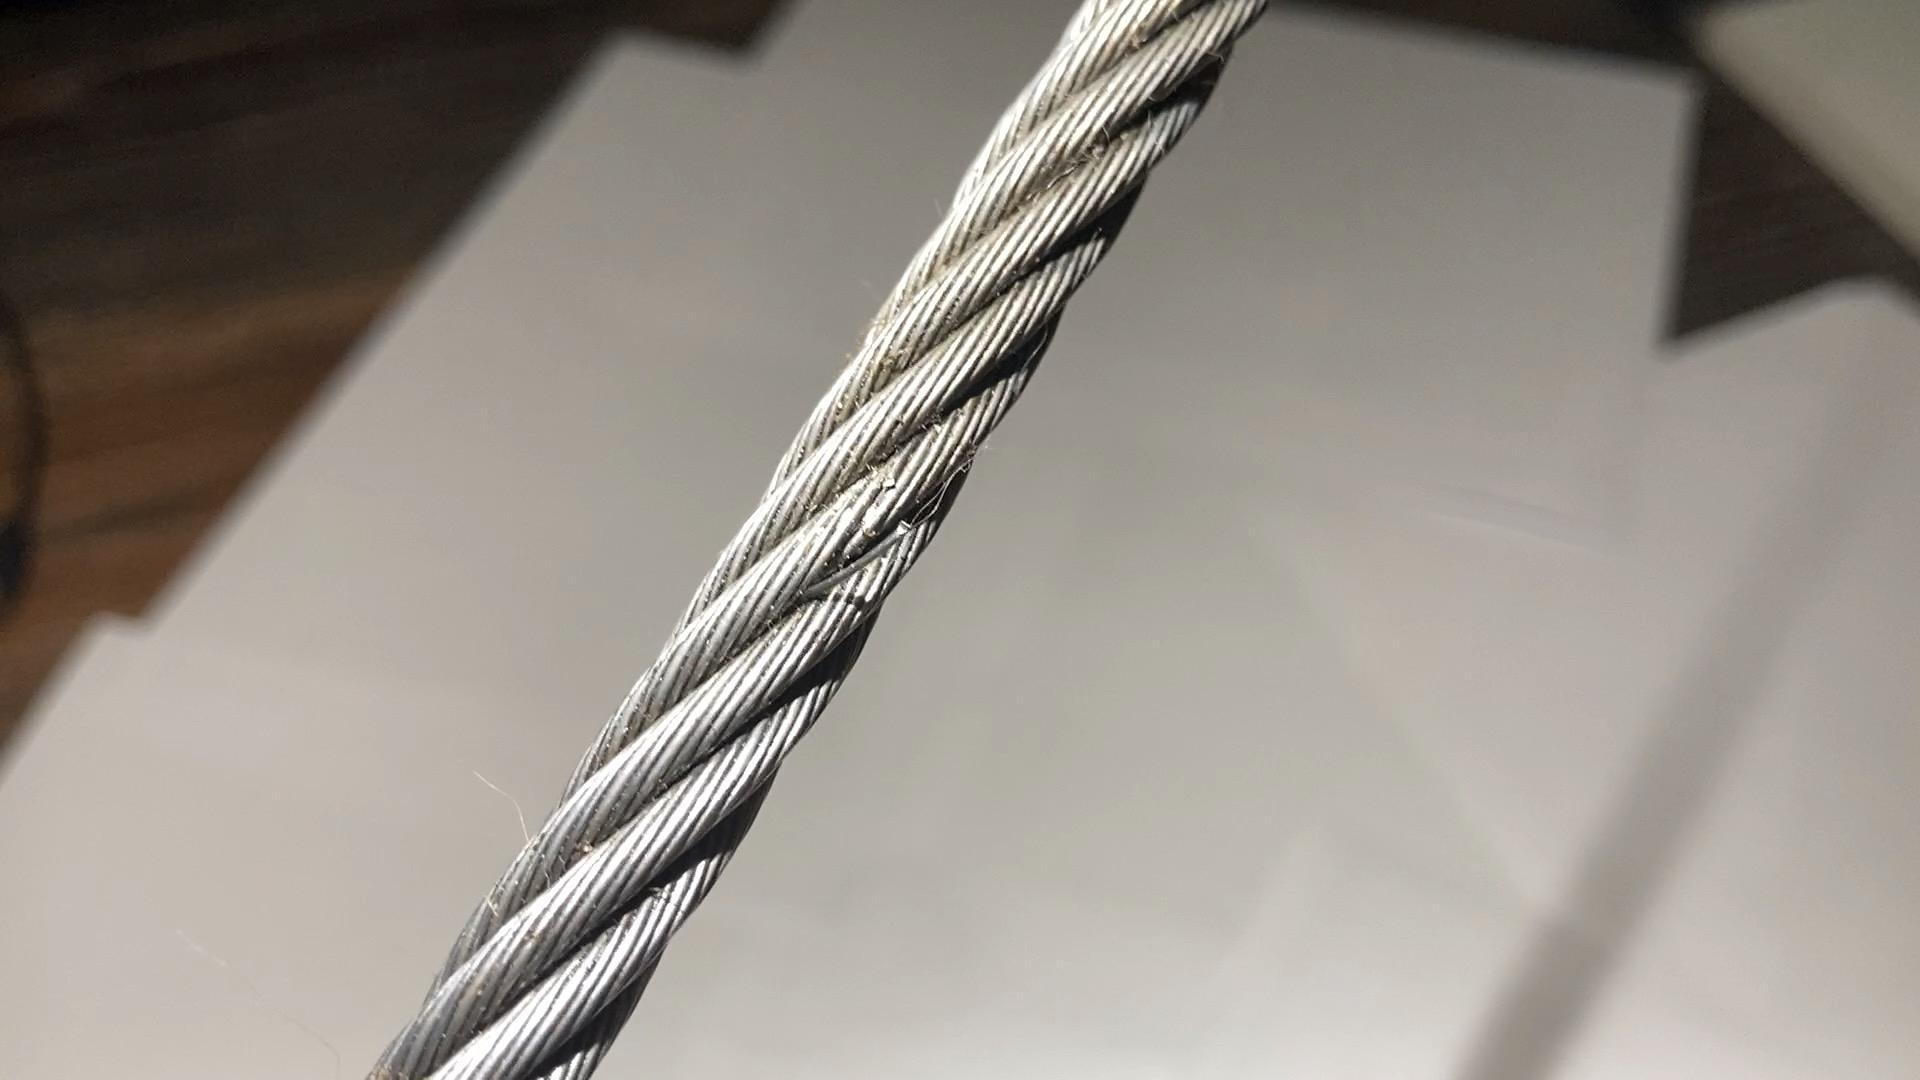break: (800, 513, 920, 600)
